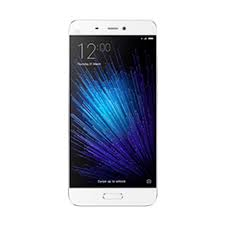mi: (65, 15, 158, 209)
